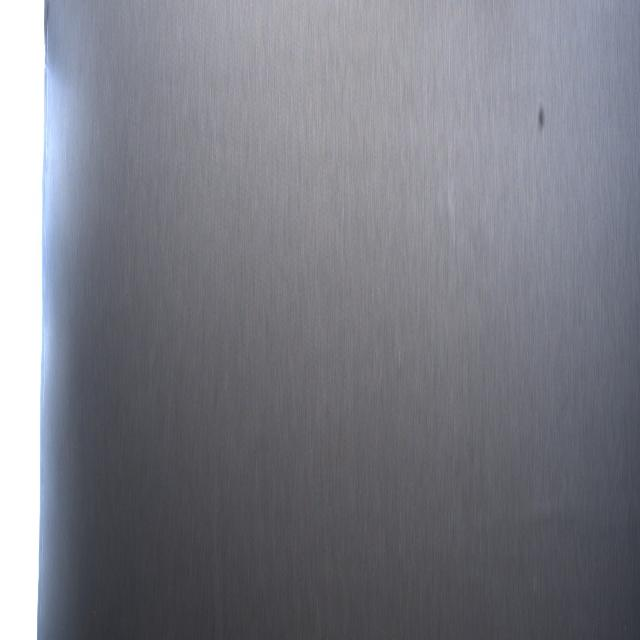crease: (502, 488, 578, 542)
